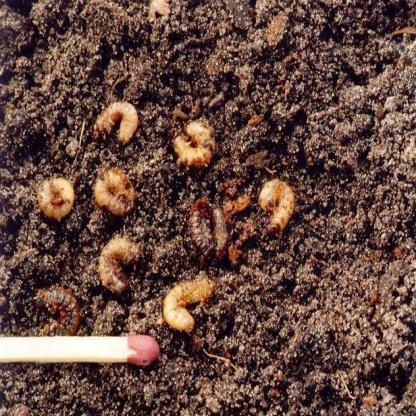root grubs: (164, 276, 213, 331), (90, 167, 135, 212), (175, 122, 218, 166), (39, 181, 76, 217)
